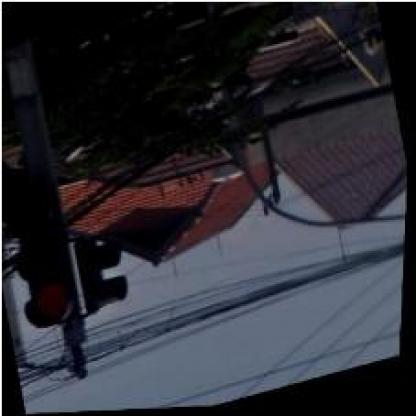red: (1, 180, 91, 334)
